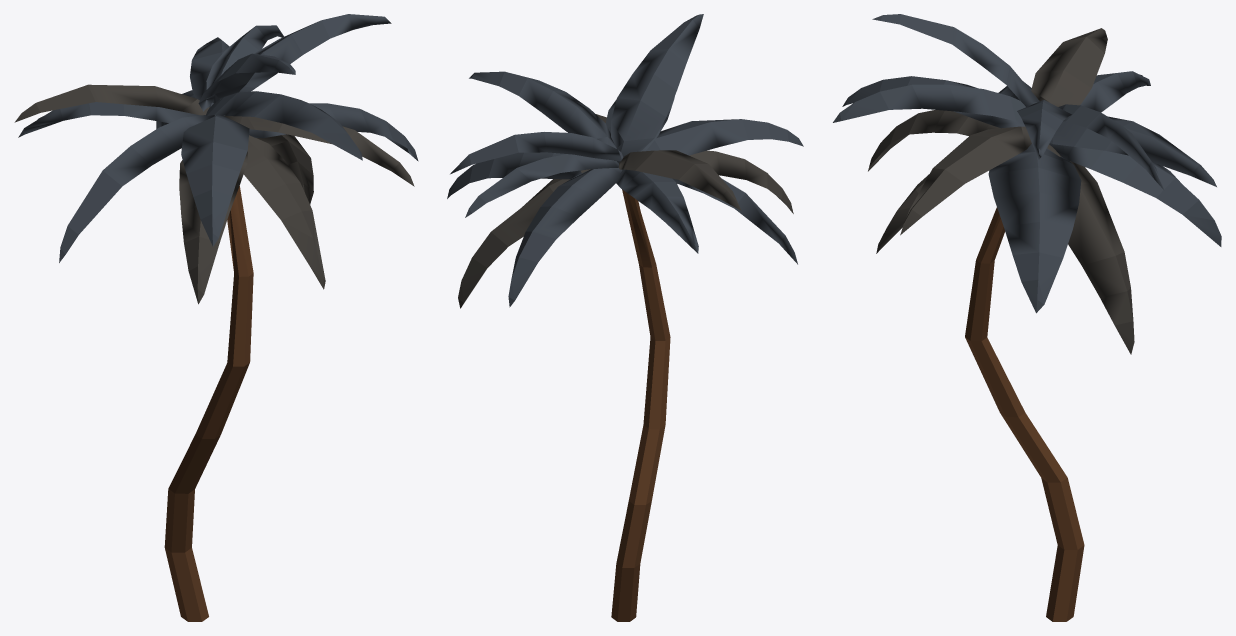
File: cc0-palm-tree-lod1.glb
3 views of the same model, side by side, from view 1: azimuth 30°, elevation 25°; view 2: azimuth 150°, elevation 25°; view 3: azimuth 270°, elevation 25° (orthographic). The views are drawn at different scales.
Visible parts, largest first — view 1: part_0; view 2: part_0; view 3: part_0.
Part boxes in pixels (left/top/right/bottom): part_0: left=14, top=14, right=418, bottom=621; part_0: left=447, top=14, right=803, bottom=621; part_0: left=833, top=14, right=1221, bottom=621.
Bounding box in the file's own units: 2.88 × 4.47 × 2.61.
